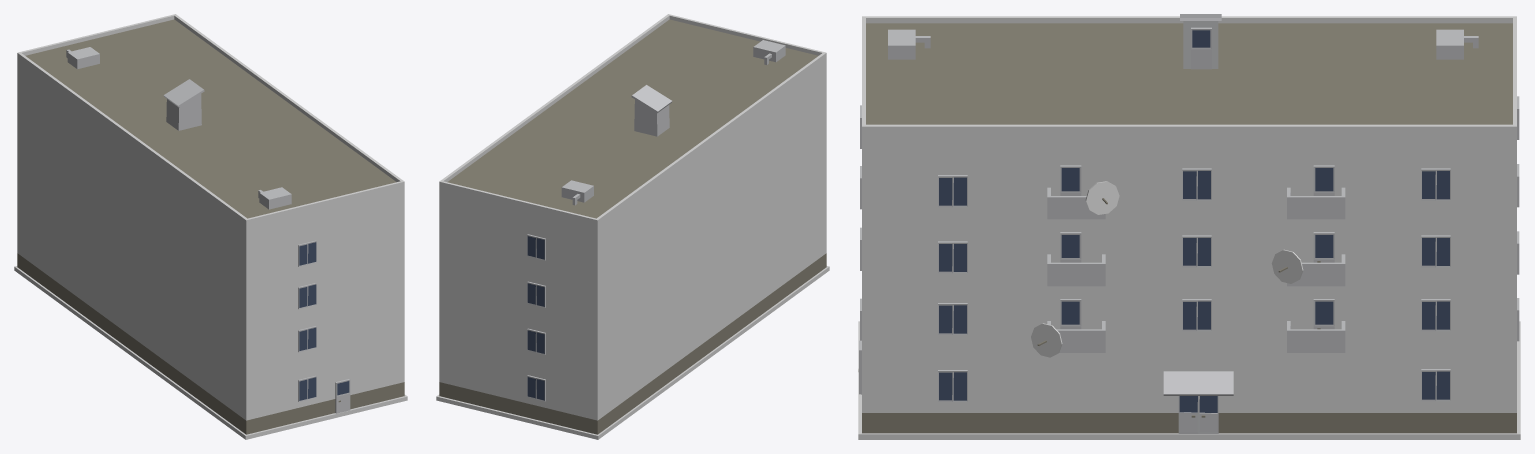
Rendered from rusun.gltf.
3 renders of one model, left to right at view 1: azimuth 30°, elevation 25°; view 2: azimuth 150°, elevation 25°; view 3: azimuth 270°, elevation 25°, orthographic. The views are drawn at different scales.
Visible parts, largest first — view 1: Cube.008; view 2: Cube.008; view 3: Cube.008.
Part boxes in pixels (bbox=[...]): Cube.008: bbox=[14, 14, 407, 439]; Cube.008: bbox=[436, 14, 829, 439]; Cube.008: bbox=[858, 14, 1520, 439].
Bounding box in the file's own units: 2.08 × 2.7 × 4.52.
